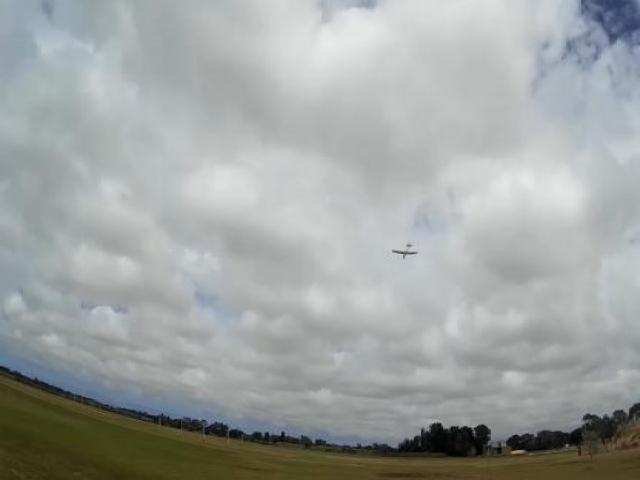uav: (384, 239, 425, 266)
